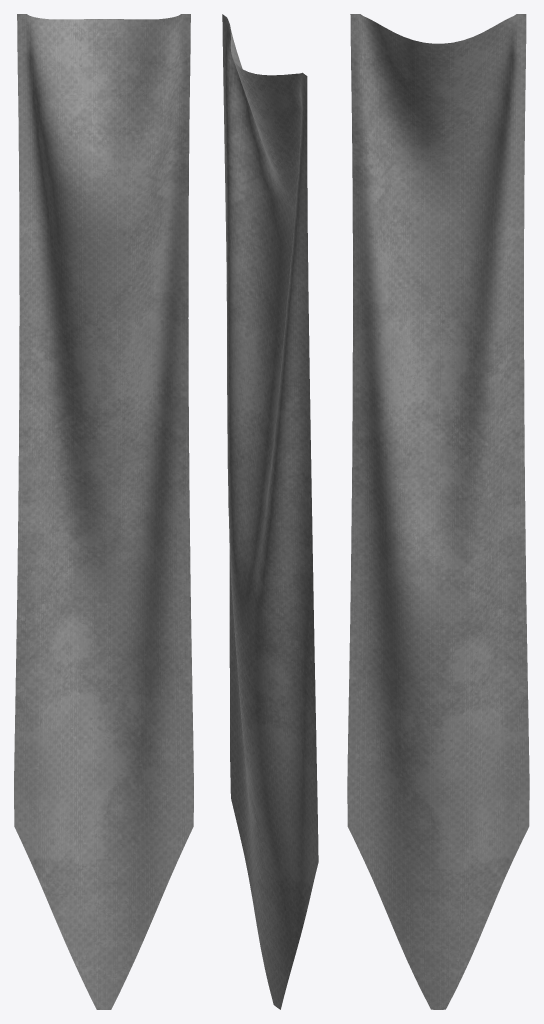
Rendered from SM_Fabric-Penant-B.fbx.
3 renders of one model, left to right at view 1: azimuth 90°, elevation 25°; view 2: azimuth 210°, elevation 25°; view 3: azimuth 270°, elevation 25°, orthographic. The views are drawn at different scales.
Parts seen in each view (by area): view 1: SM_Fabric-Penant-B_LOD0; view 2: SM_Fabric-Penant-B_LOD0; view 3: SM_Fabric-Penant-B_LOD0.
Boxes of the visible parts, x1,y1,x2,y2 form: SM_Fabric-Penant-B_LOD0: (14, 14, 193, 1009); SM_Fabric-Penant-B_LOD0: (222, 14, 318, 1009); SM_Fabric-Penant-B_LOD0: (347, 14, 529, 1009).
Size of the model in its own units: 21.29 by 71.33 by 433.
2 materials, 2 textured.
